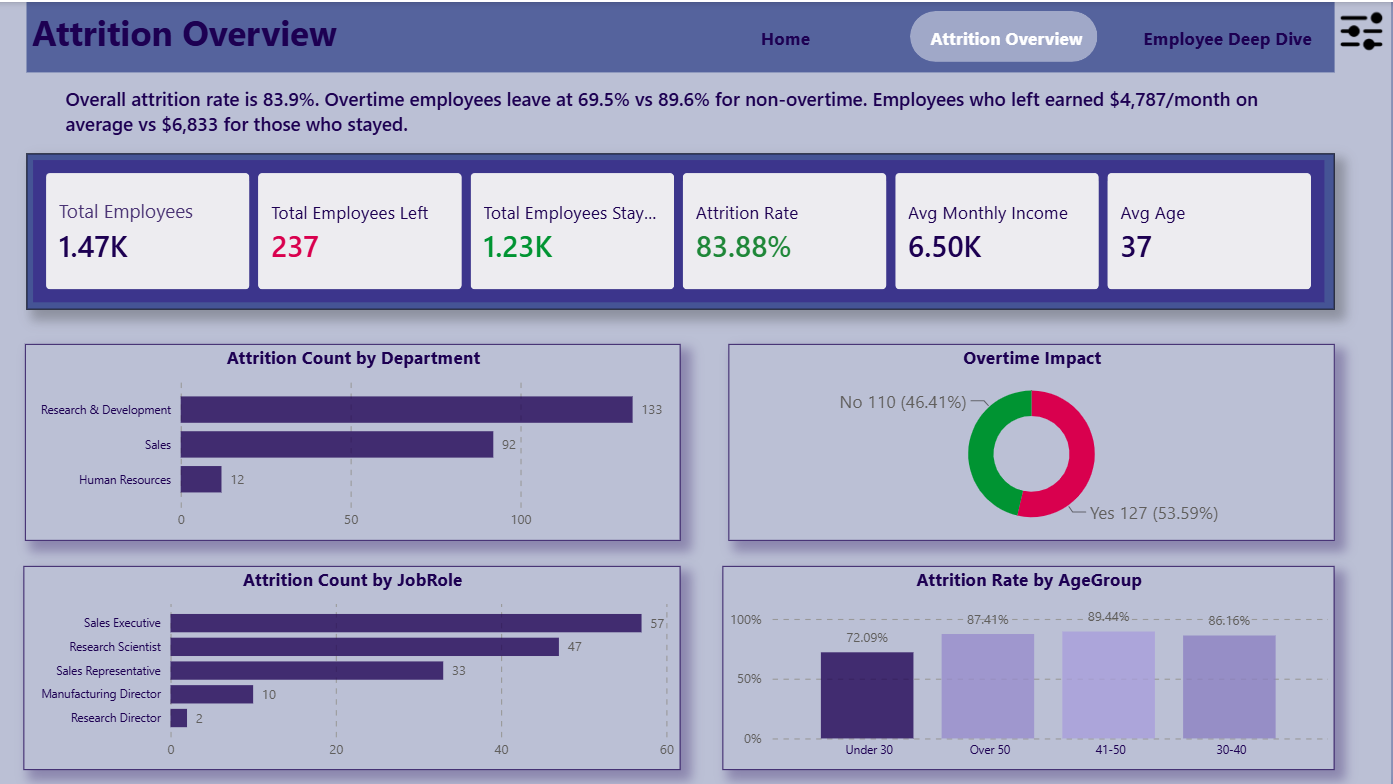

What the dashboard file says about the page in this screenshot:
{"tool":"powerbi","page":{"name":"Attrition Overview","canvas":[1280,720],"ordinal":1},"visuals":[{"type":"textbox","box":[26.2,0,1201.2,64.7],"z":0},{"type":"cardVisual","fields":{"Data":["Measure.Total Employees","Measure.Attrition Count","Measure.Active Count","Measure.Attrition Rate","Measure.Avg Monthly Income","Measure.Avg Age"]},"box":[26.2,139.1,1201.2,143.3],"z":1000},{"type":"cardVisual","fields":{"Data":["Measure.HR Insight"]},"box":[32.4,32.4,1194.9,131.6],"z":2000},{"type":"clusteredBarChart","fields":{"Category":["employees.Department"],"Y":["Measure.Attrition Count"]},"box":[24.8,314.1,602,180.5],"z":3000},{"type":"clusteredBarChart","fields":{"Category":["employees.JobRole"],"Y":["Measure.Attrition Count"]},"box":[23.4,518,603.4,187.4],"z":4000},{"type":"donutChart","title":"Overtime Impact","fields":{"Category":["employees.OverTime"],"Y":["Measure.Attrition Count"]},"box":[670.9,314.1,556.5,180.5],"z":5000},{"type":"clusteredColumnChart","fields":{"Category":["employees.AgeGroup"],"Y":["Measure.Attrition Rate"]},"box":[665.4,518,562.1,187.4],"z":6000},{"type":"actionButton","box":[1227.4,0,49.6,53.7],"z":15000},{"type":"pageNavigator","box":[626.8,13.8,600.6,37.2],"z":16000},{"type":"shape","box":[837.6,8.3,172.2,46.8],"z":17000}]}

Visuals, with their boxes in screenshot pixels (x1, y1, x2, y2), scaled from the page's 1280x720 canvas onto the 1393x784 screenshot:
textbox: 29 0 1336 70
cardVisual - Measure.Total Employees x Measure.Attrition Count: 29 151 1336 308
cardVisual - Measure.HR Insight: 35 35 1336 179
clusteredBarChart - employees.Department x Measure.Attrition Count: 27 342 682 539
clusteredBarChart - employees.JobRole x Measure.Attrition Count: 25 564 682 768
"Overtime Impact" donutChart: 730 342 1336 539
clusteredColumnChart - employees.AgeGroup x Measure.Attrition Rate: 724 564 1336 768
actionButton: 1336 0 1390 58
pageNavigator: 682 15 1336 56
shape: 912 9 1099 60
